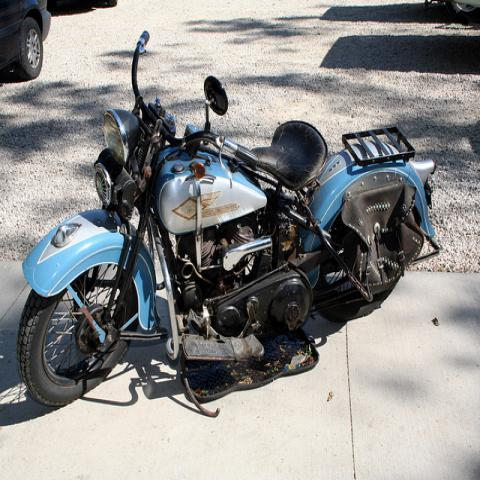car: (1, 0, 51, 73)
motorcycle: (17, 31, 440, 408)
